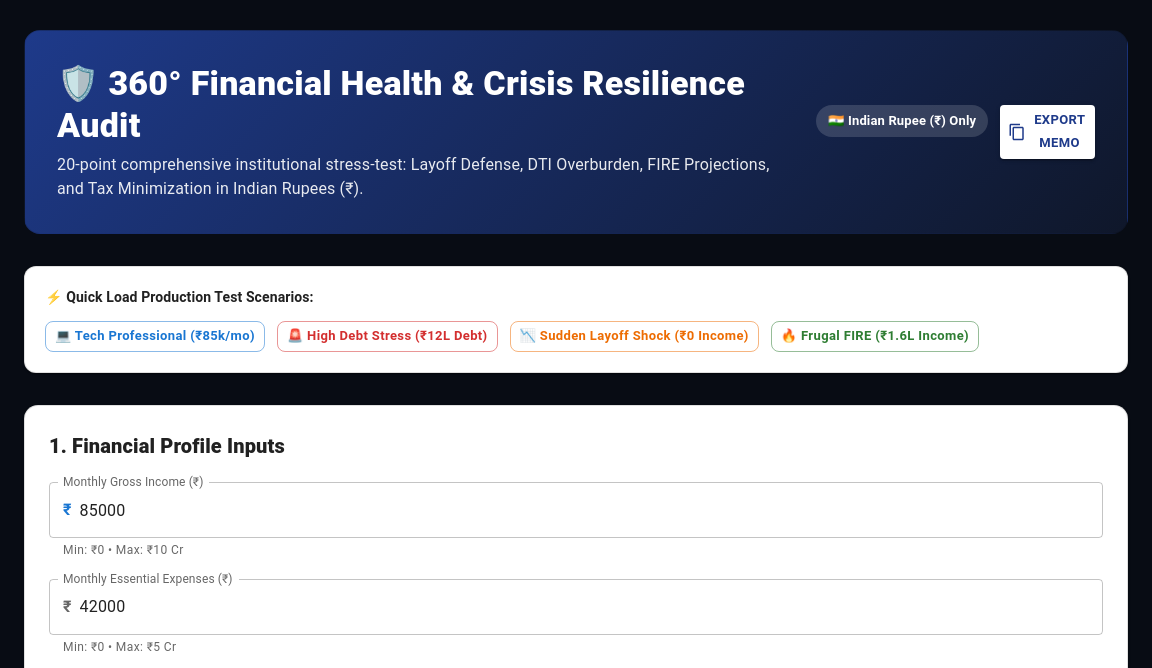
Assessment Page - 20 Advanced Features & Critical Scenarios › Critical Scenario: High Debt Stress preset test
// Click High Debt Stress preset button
Click the button "🚨 High Debt Stress (₹12L Debt)": (387,337) [277, 321, 498, 352]
(page scrolled)
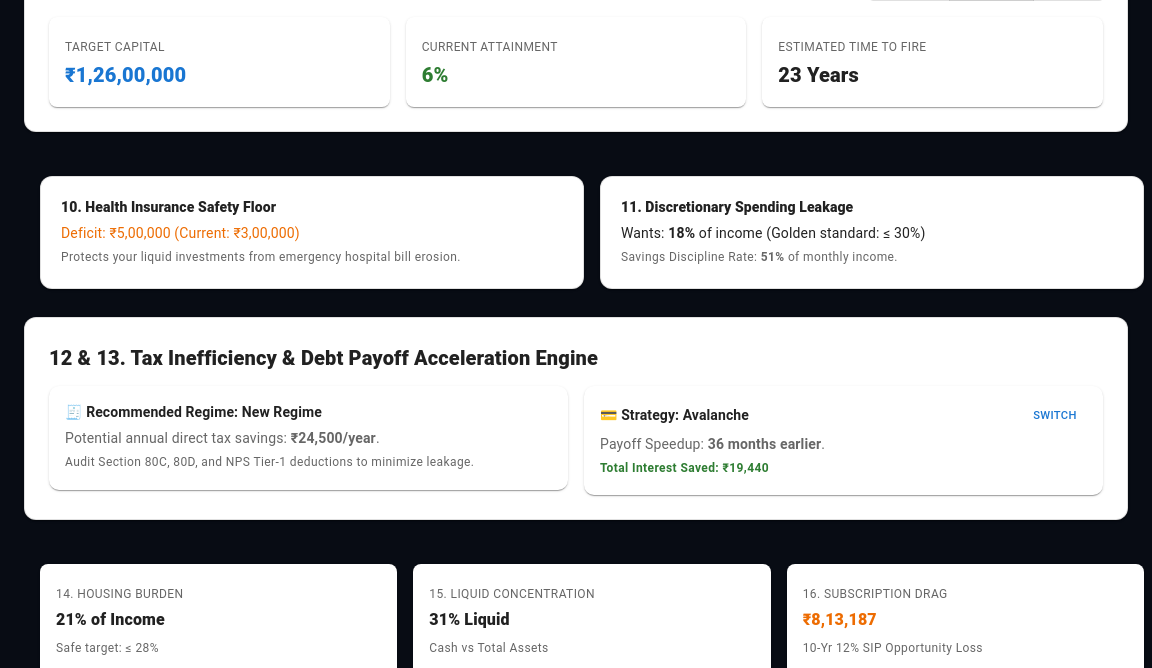
Expected: the heading "12 & 13. Tax Inefficiency & Debt Payoff Acceleration Engine" is shown, [49, 346, 598, 370]
